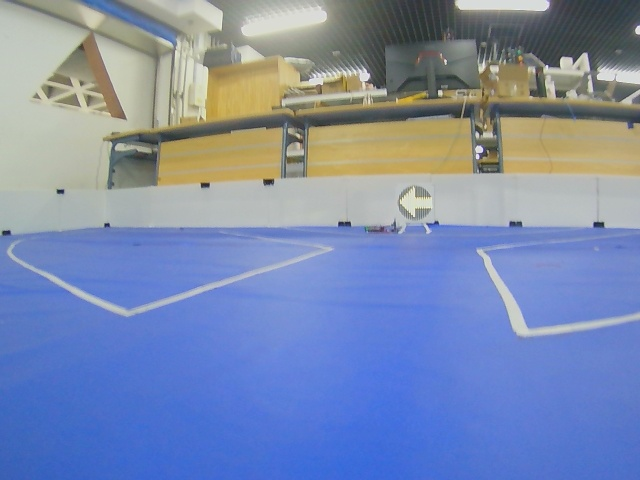left_yellow: (398, 185, 433, 221)
